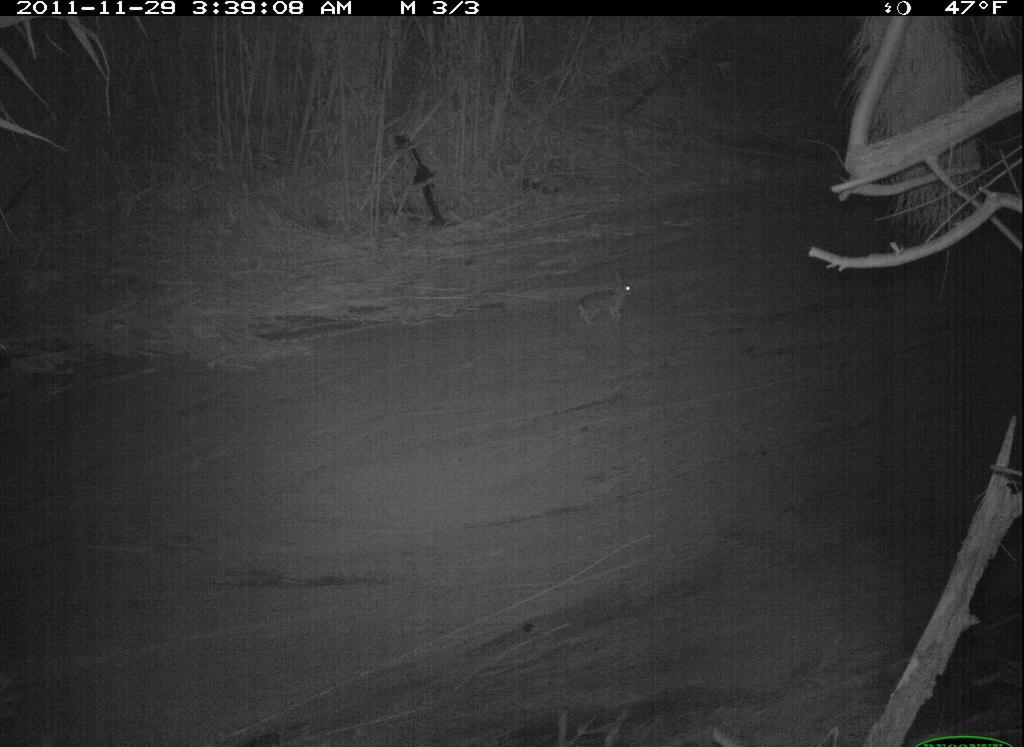rabbit: (573, 271, 642, 328)
